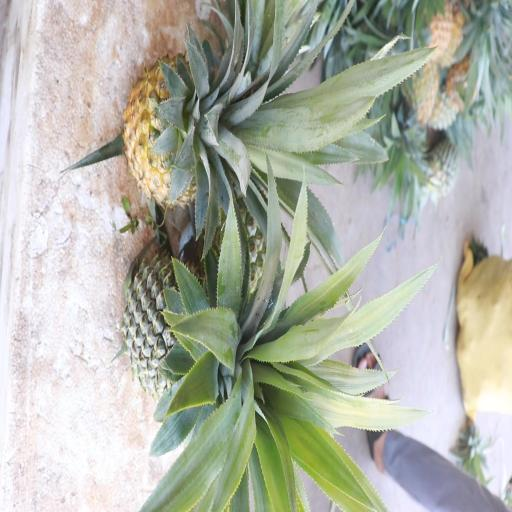Pineapple - v8 v1: (118, 51, 306, 215)
